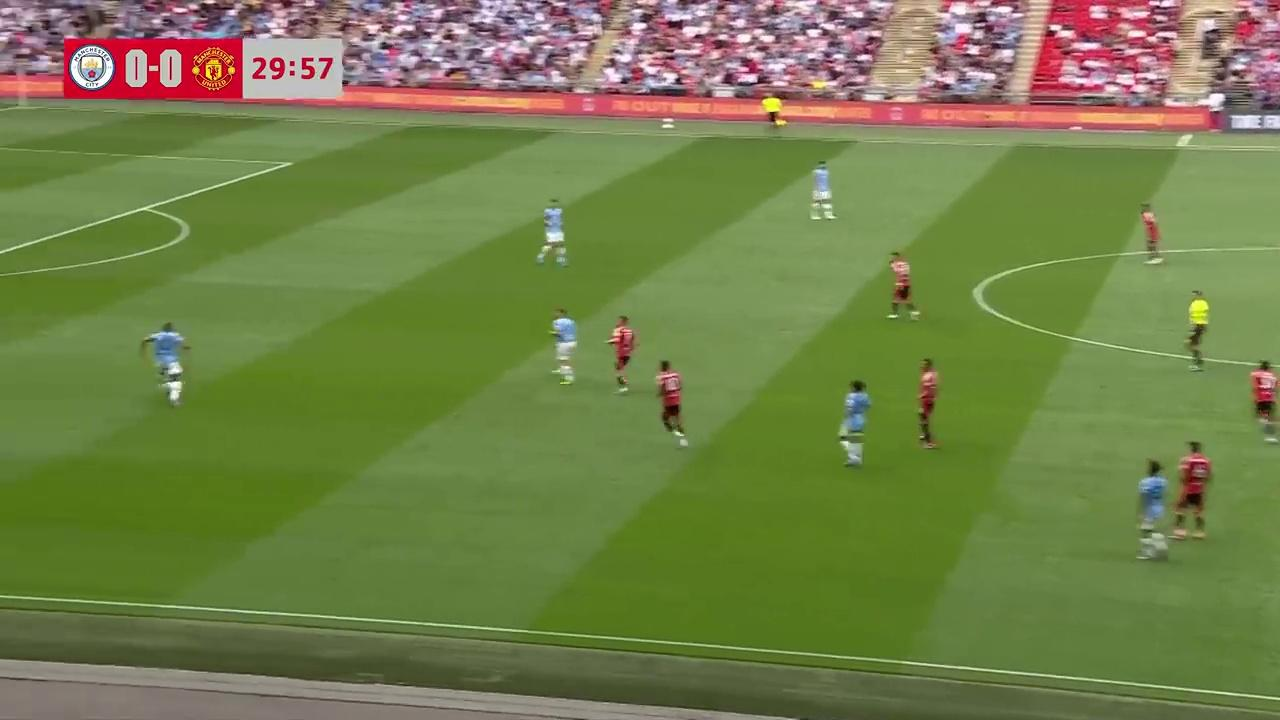player: (140, 321, 189, 405), (1173, 440, 1212, 540), (1136, 460, 1172, 560), (838, 379, 872, 467), (654, 359, 688, 447), (1249, 359, 1280, 440), (606, 315, 638, 392), (916, 358, 940, 449), (536, 199, 568, 266), (887, 252, 919, 319), (549, 307, 577, 383), (809, 160, 835, 220), (1140, 205, 1163, 263)
referee: (1185, 289, 1209, 370), (761, 94, 784, 133)
